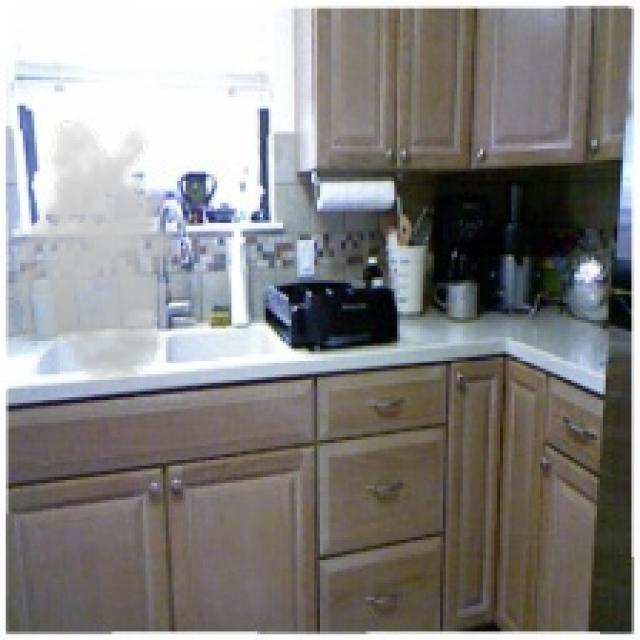smoke: (0, 117, 200, 383)
